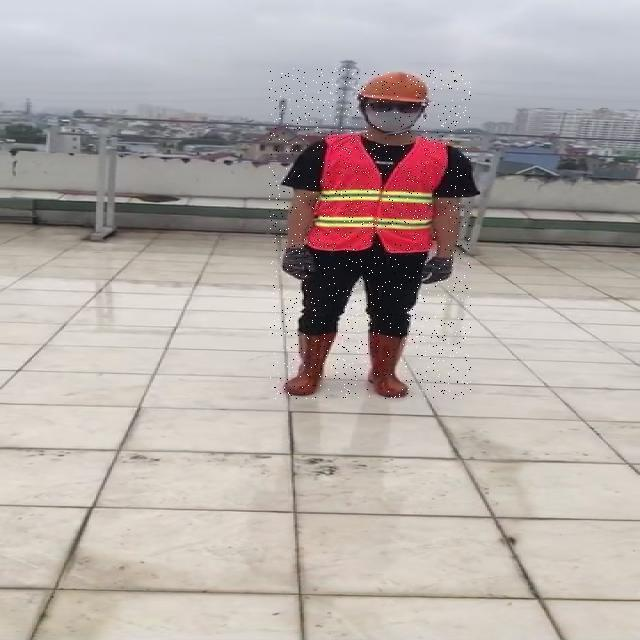gloves: (281, 245, 314, 278), (419, 255, 453, 286)
goggles: (365, 98, 424, 113)
helmet: (357, 70, 431, 104)
safety_vest: (309, 134, 446, 254)
